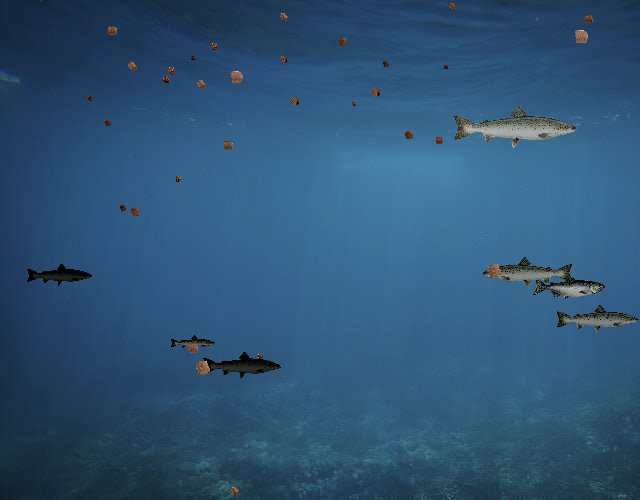Fish: (450, 103, 579, 149), (482, 255, 576, 289), (554, 303, 640, 334), (201, 351, 282, 380), (532, 275, 605, 301), (26, 263, 94, 287), (169, 335, 216, 352)
Pellet: (188, 352, 218, 382), (181, 337, 204, 360), (366, 83, 385, 102), (226, 482, 243, 500), (170, 172, 185, 187), (116, 201, 130, 215)
